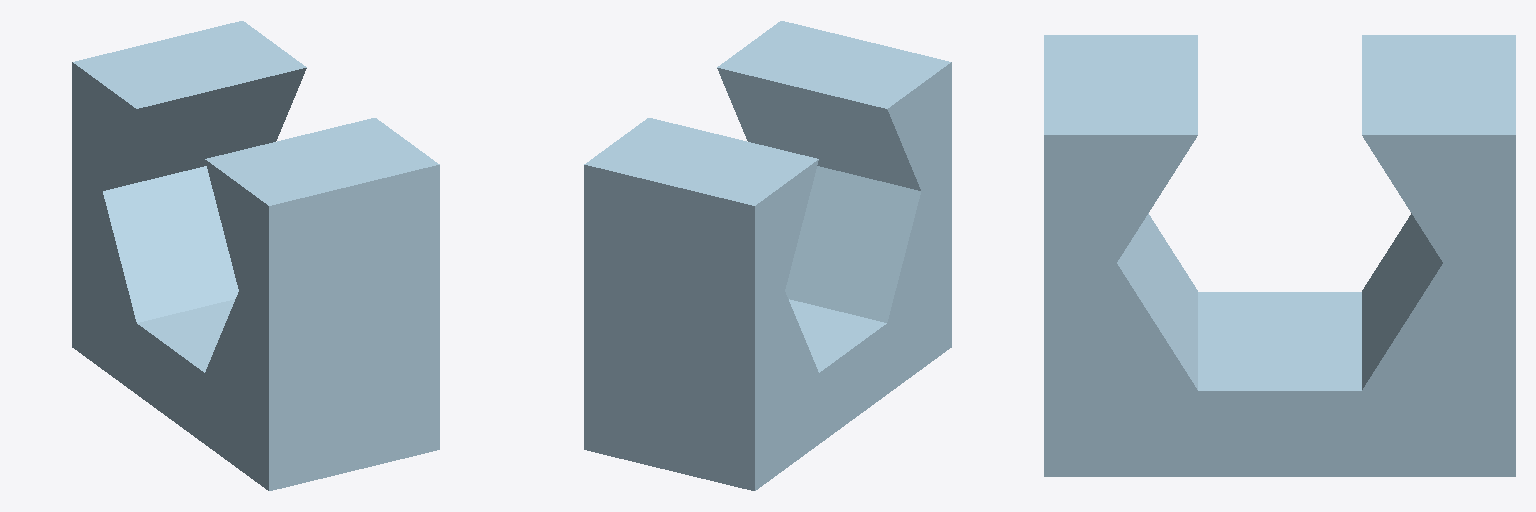
URDF robot description (onshape):
<?xml version="1.0"?>
<robot name="onshape">
<link name="hex_bottom">
<visual>
<origin xyz="8.0753459769766777754e-05 0.0032259640991688064149 0.14493167400360104646" rpy="0 -0 0" />
<geometry>
<mesh filename="separated_wall_shapes/hex_bottom.obj"/>
</geometry>
<material name="hex_bottom_material">
<color rgba="0.76862745098039220171 0.88627450980392152857 0.95294117647058818044 1.0"/>
</material>
</visual>
<collision>
<origin xyz="8.0753459769766777754e-05 0.0032259640991688064149 0.14493167400360104646" rpy="0 -0 0" />
<geometry>
<mesh filename="separated_wall_shapes/hex_bottom.obj"/>
</geometry>
</collision>
<inertial>
<origin xyz="0 0 0" rpy="0 0 0"/>
<mass value="100" />
<inertia ixx="0" ixy="0"  ixz="0" iyy="0" iyz="0" izz="0" />
</inertial>
</link>


</robot>

--- Facts derived from the render (not from the file) ---
Views: 3 orthographic renders of the robot side by side, from view 1: azimuth 30°, elevation 25°; view 2: azimuth 150°, elevation 25°; view 3: azimuth 270°, elevation 25°.
Robot: onshape — 1 links, 0 joints (none); root link hex_bottom; default pose: all joints at 0.
Links seen in each view (by area): view 1: hex_bottom; view 2: hex_bottom; view 3: hex_bottom.
Link boxes in pixels (box(x1,y1,x2,y2)): hex_bottom: box(72, 21, 439, 490); hex_bottom: box(584, 21, 951, 490); hex_bottom: box(1044, 35, 1515, 476).
Bounding box of the posed robot: 0.25 × 0.5 × 0.4 m (x, y, z).
1 mesh visuals loaded from 1 distinct referenced files (1 OBJ).